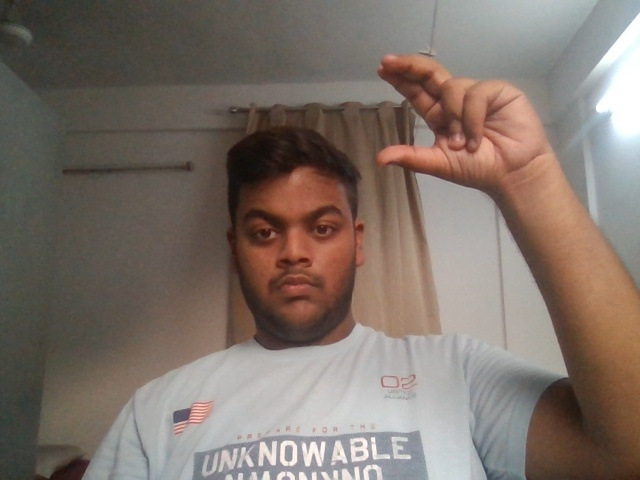No: (357, 30, 596, 236)
